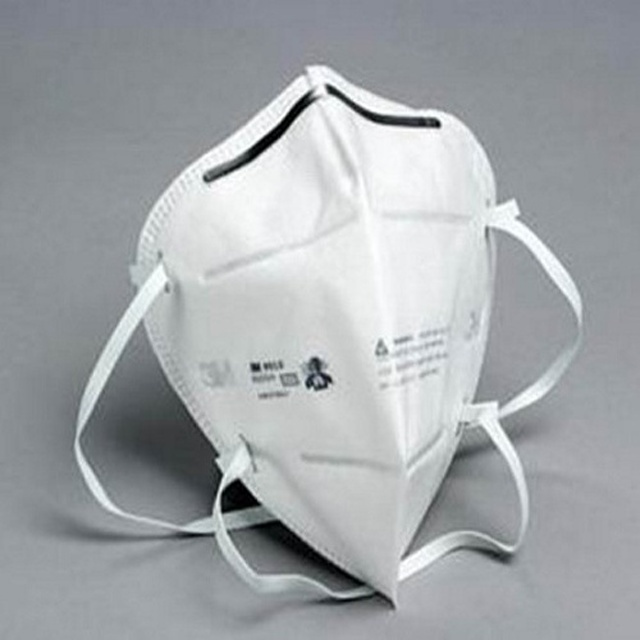mask: (67, 61, 589, 615)
